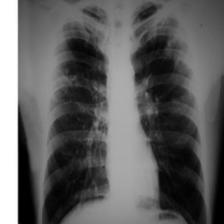tuberculosis: (29, 0, 212, 224)
